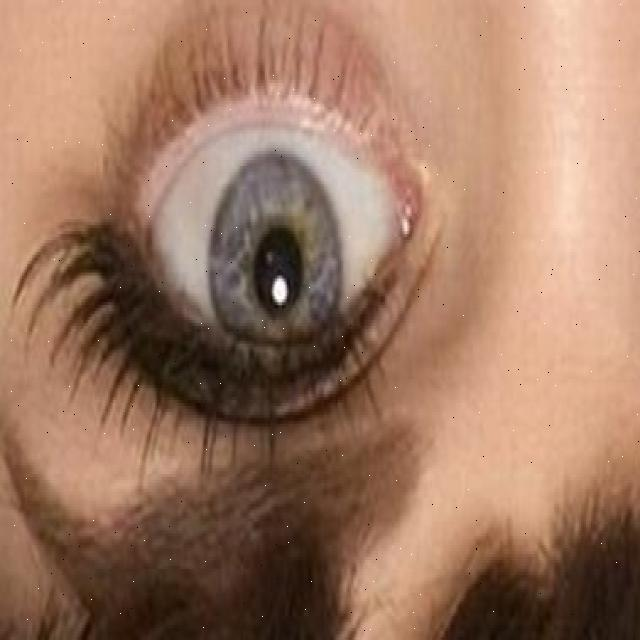Normal: (209, 144, 343, 374)
